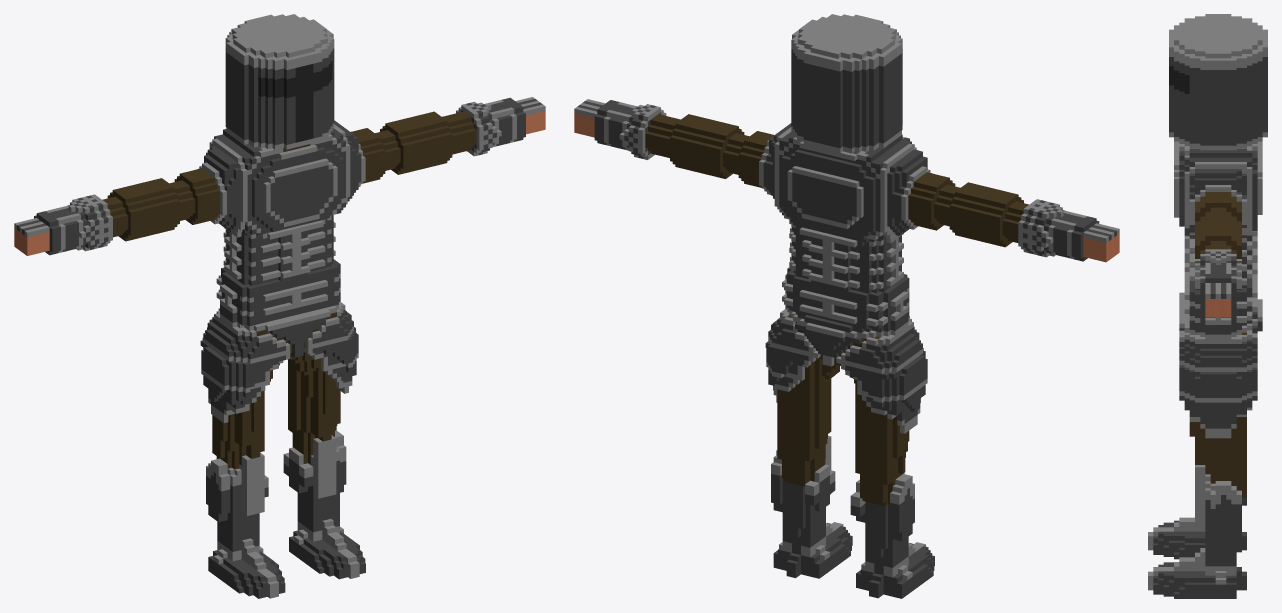
File: Large Enemy.obj
3 renders of one model, left to right at view 1: azimuth 30°, elevation 25°; view 2: azimuth 150°, elevation 25°; view 3: azimuth 270°, elevation 25°, orthographic. The views are drawn at different scales.
Parts seen in each view (by area): view 1: Large Enemy; view 2: Large Enemy; view 3: Large Enemy.
Part boxes in pixels (<box>): Large Enemy: <box>14,14,545,598</box>; Large Enemy: <box>574,14,1119,598</box>; Large Enemy: <box>1148,14,1267,598</box>.
Bounding box in the file's own units: 116 × 113 × 23.
1 material, 1 textured.
